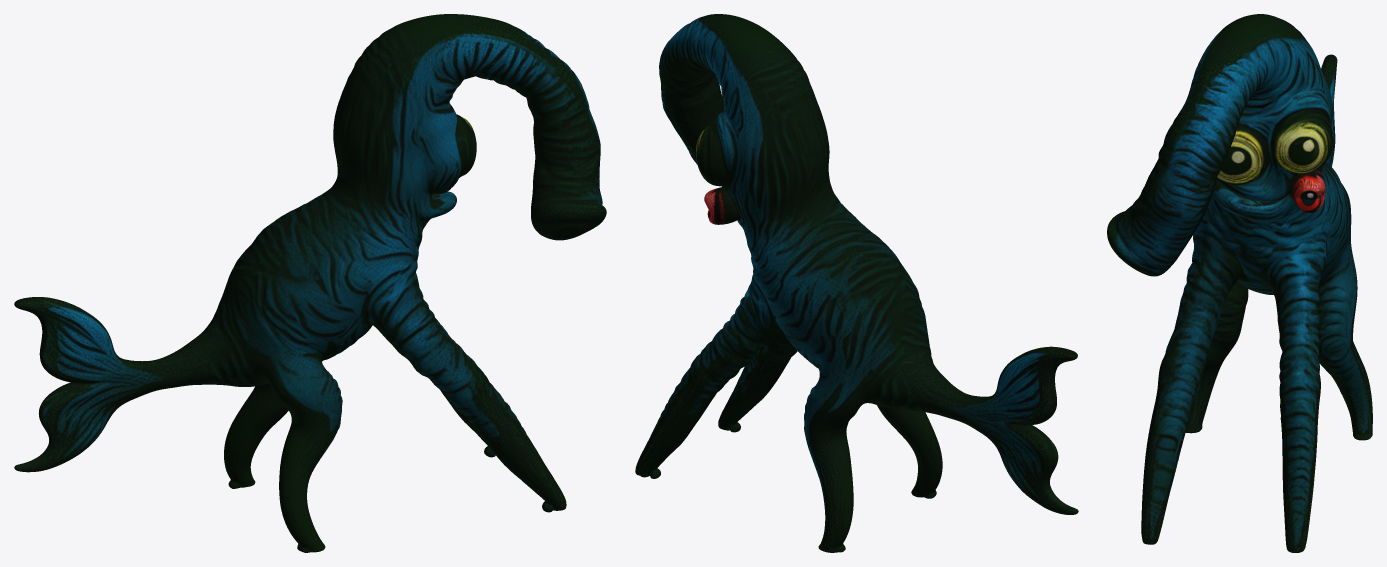
File: Fhumor.glb
3 renders of one model, left to right at view 1: azimuth 30°, elevation 25°; view 2: azimuth 150°, elevation 25°; view 3: azimuth 270°, elevation 25°, orthographic. The views are drawn at different scales.
Parts seen in each view (by area): view 1: tripo_node_1d70b9fc-6a91-4f22-8d28-6f6491e73398; view 2: tripo_node_1d70b9fc-6a91-4f22-8d28-6f6491e73398; view 3: tripo_node_1d70b9fc-6a91-4f22-8d28-6f6491e73398.
Part boxes in pixels (<box>): tripo_node_1d70b9fc-6a91-4f22-8d28-6f6491e73398: <box>14,14,606,552</box>; tripo_node_1d70b9fc-6a91-4f22-8d28-6f6491e73398: <box>635,14,1078,552</box>; tripo_node_1d70b9fc-6a91-4f22-8d28-6f6491e73398: <box>1107,14,1372,552</box>.
Size of the model in its own units: 1 by 0.8904 by 0.4425.
Materials: 1 (1 with a texture image).
